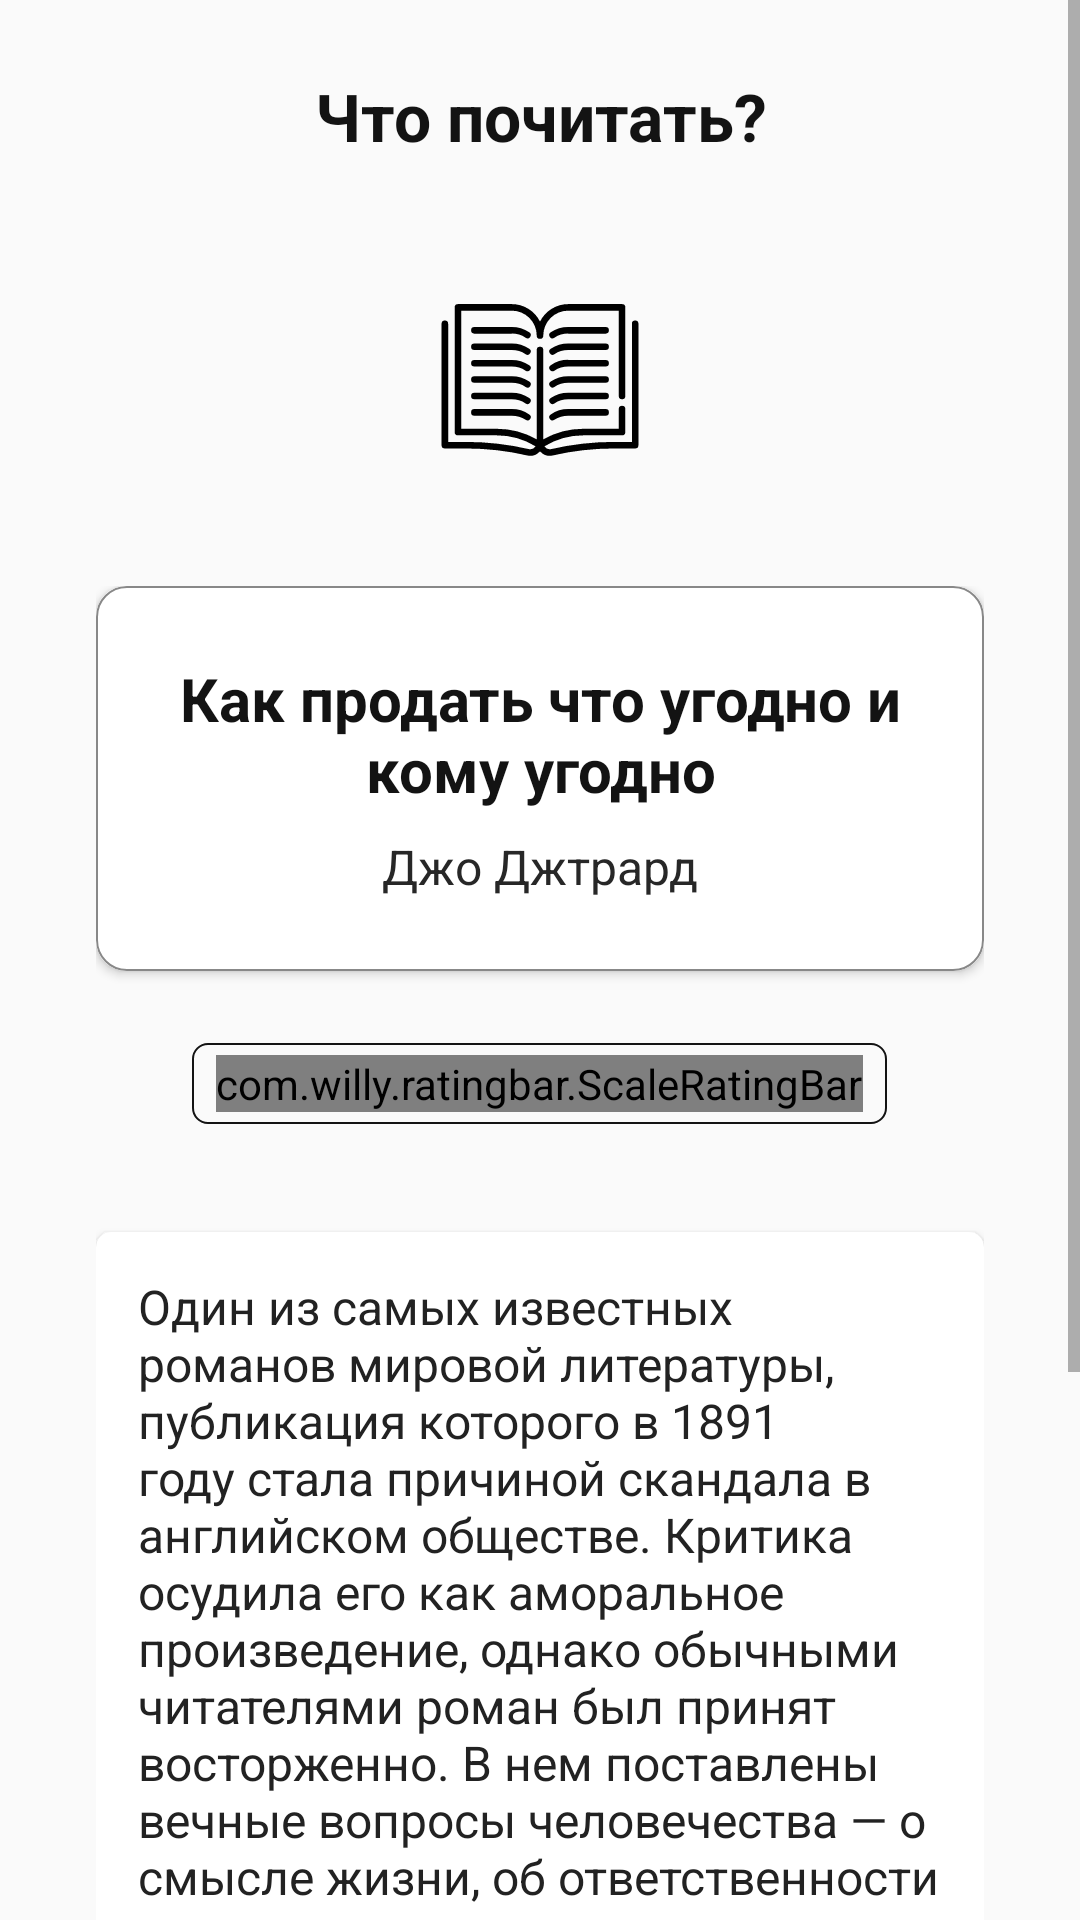

Icon bounding boxes for this 1080*1920 phone screenshot, format (x1, y1, x2, y2):
book: (441, 304, 639, 456)
